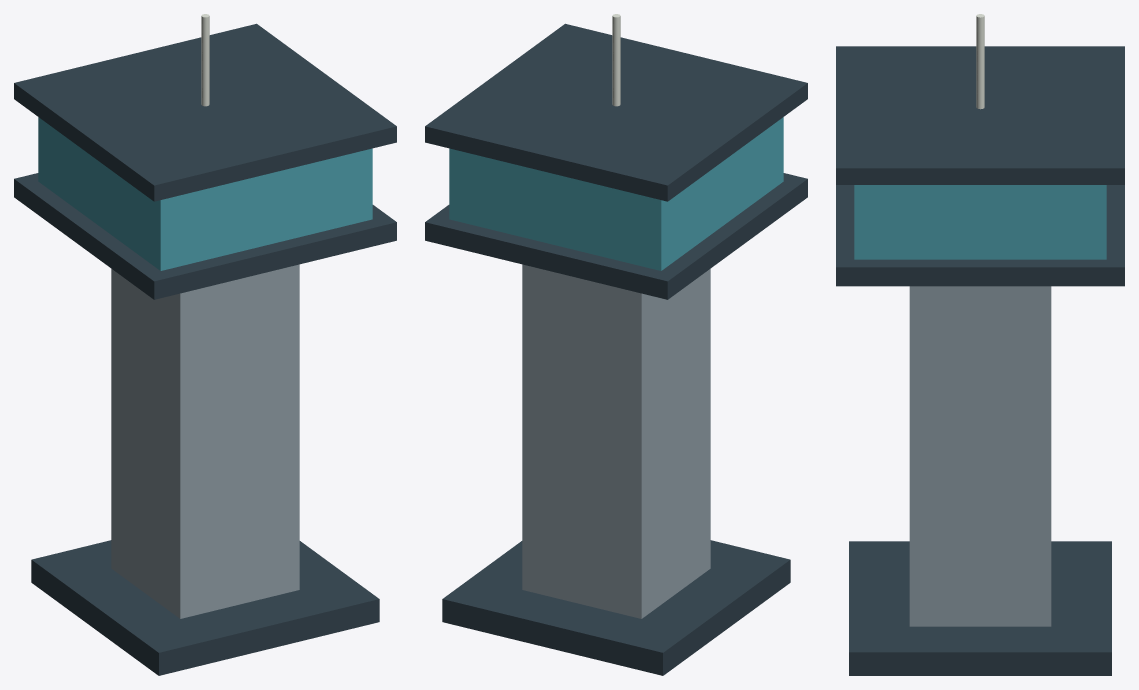
File: control_tower.glb
3 views of the same model, side by side, from view 1: azimuth 30°, elevation 25°; view 2: azimuth 150°, elevation 25°; view 3: azimuth 270°, elevation 25° (orthographic). The views are drawn at different scales.
Parts seen in each view (by area): view 1: Shaft, Roof, Cabin, Base, Deck, Mast; view 2: Shaft, Roof, Cabin, Base, Deck, Mast; view 3: Shaft, Roof, Base, Cabin, Deck, Mast.
Part boxes in pixels (x1,y1,x2,y2): Shaft: (111,264,299,618); Roof: (14,23,396,201); Cabin: (38,117,372,270); Base: (31,540,379,675); Deck: (14,173,396,299); Mast: (201,14,209,106); Shaft: (522,264,710,618); Roof: (425,23,807,201); Cabin: (449,117,783,270); Base: (442,540,790,675); Deck: (425,173,807,299); Mast: (612,14,620,106); Shaft: (909,286,1051,626); Roof: (836,46,1124,184); Base: (849,541,1111,675); Cabin: (854,185,1106,259); Deck: (836,185,1124,286); Mast: (976,14,984,109).
Size of the model in its own units: 5.5 by 12.7 by 5.5.
